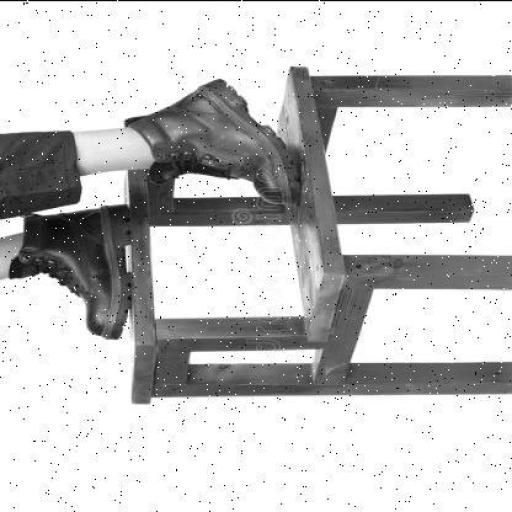safety_shoe: (150, 88, 293, 194), (20, 202, 136, 327)
